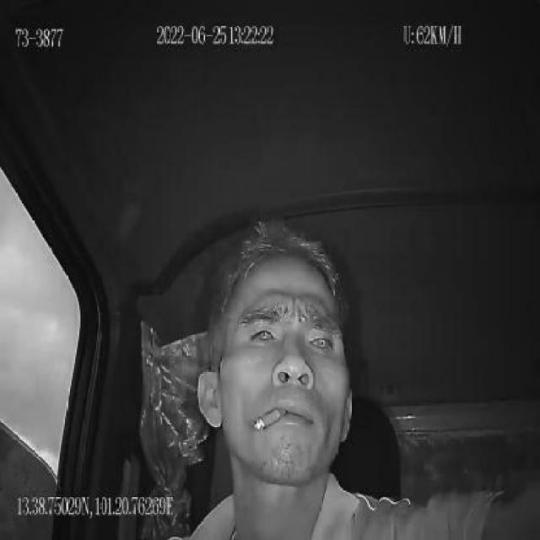smoking: (251, 408, 287, 431)
